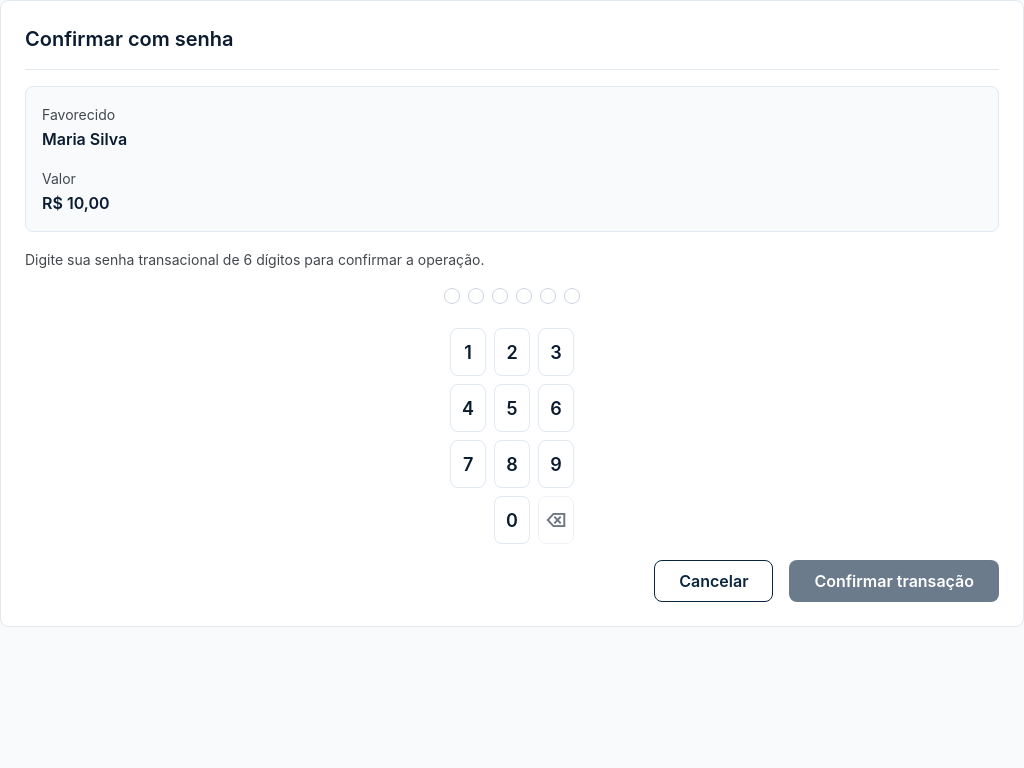
Test: SenhaView (T03) › botão de confirmação só habilita com os 6 dígitos
The image size is (1024, 768).
Expected: the button "Confirmar transação" is disabled, [790, 560, 999, 602]
Click the button with class "app-pin-pad__key" showing "1" at [468, 352], box [450, 328, 486, 376]
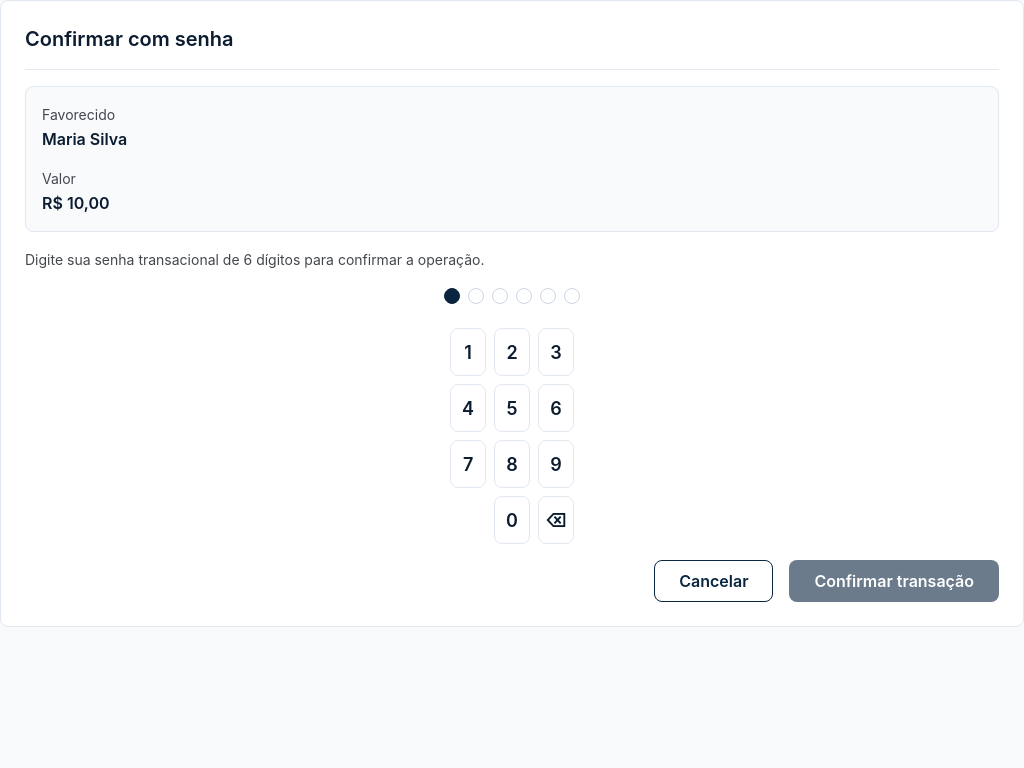
Click the button with class "app-pin-pad__key" showing "2" at [512, 352], box [494, 328, 530, 376]
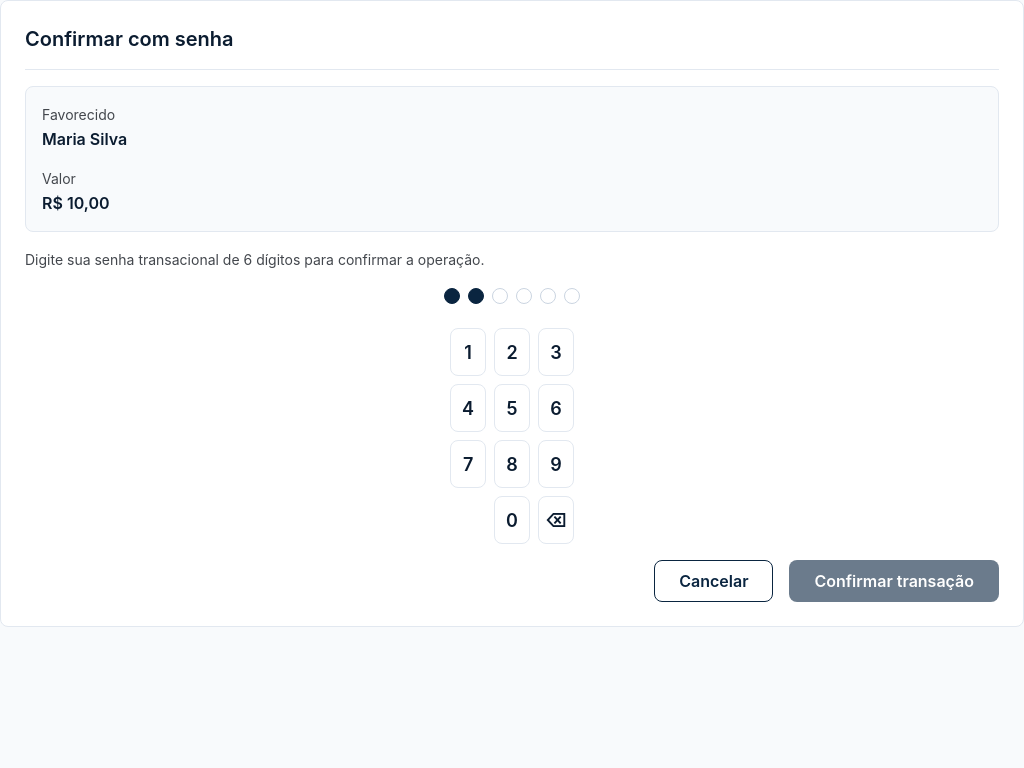
Click the button with class "app-pin-pad__key" showing "3" at [556, 352], box [538, 328, 574, 376]
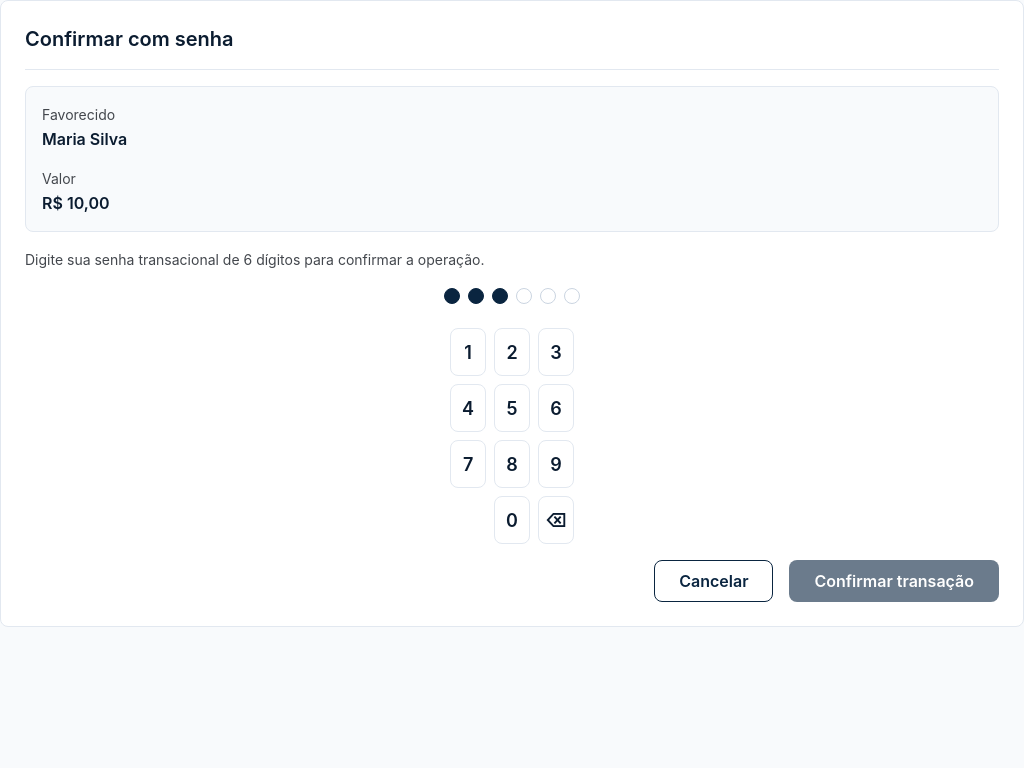
Click the button with class "app-pin-pad__key" showing "4" at [468, 408], box [450, 384, 486, 432]
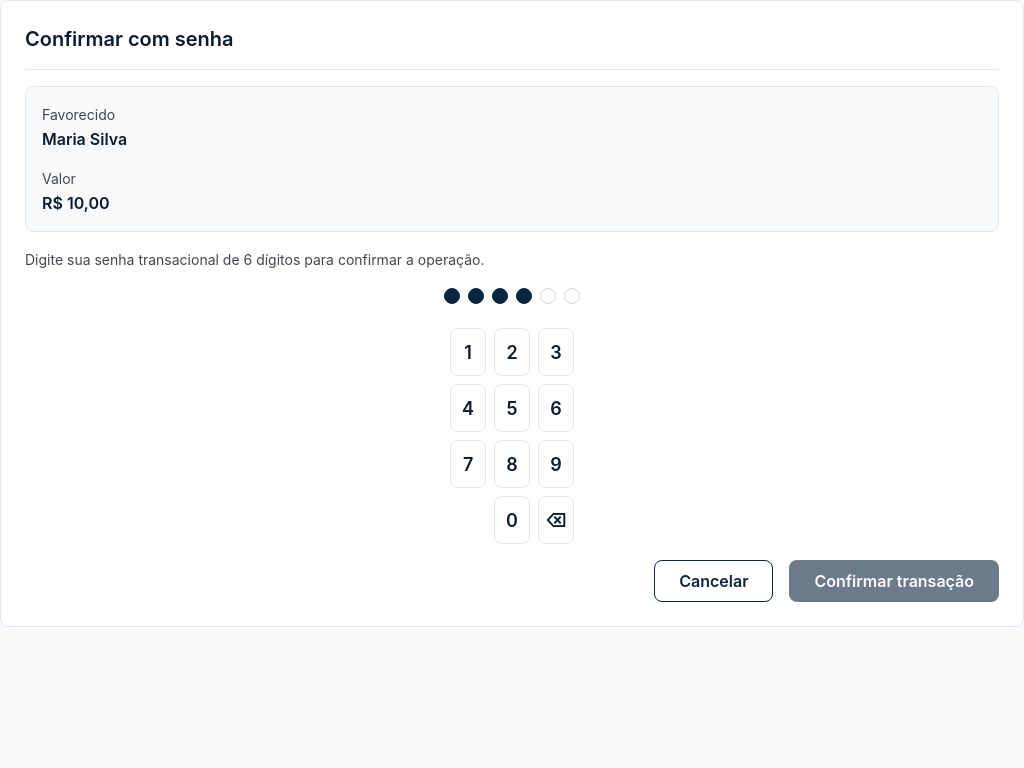
Click the button with class "app-pin-pad__key" showing "5" at [512, 408], box [494, 384, 530, 432]
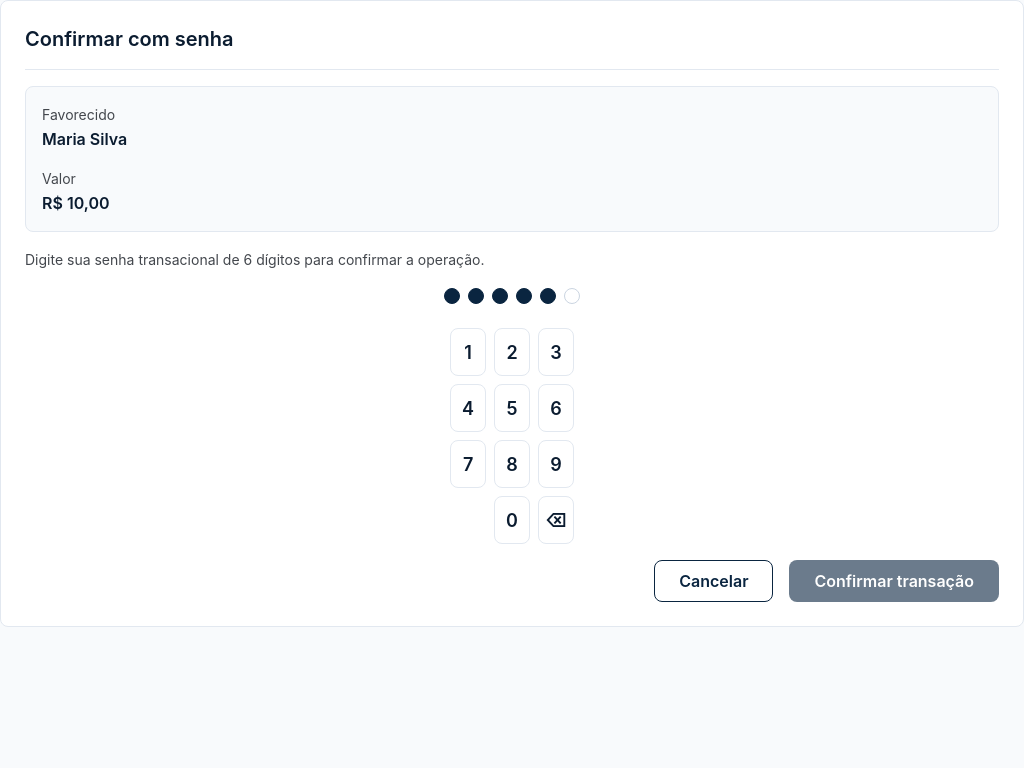
Click the button with class "app-pin-pad__key" showing "6" at [556, 408], box [538, 384, 574, 432]
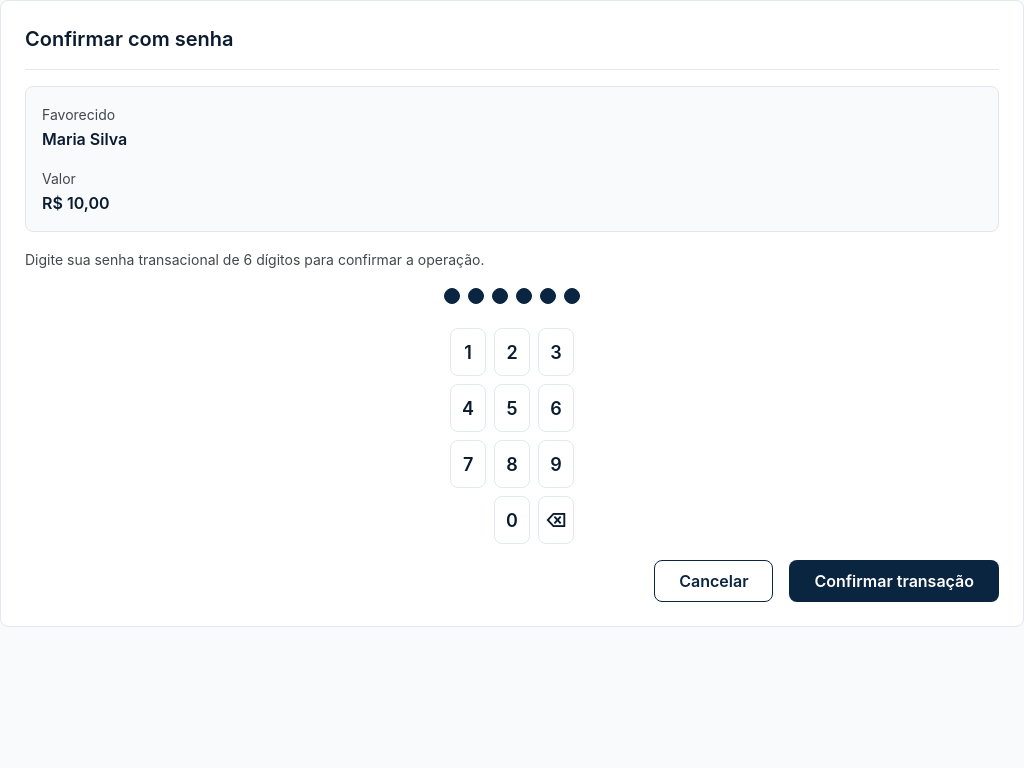
Expected: the button "Confirmar transação" is enabled, [790, 560, 999, 602]
